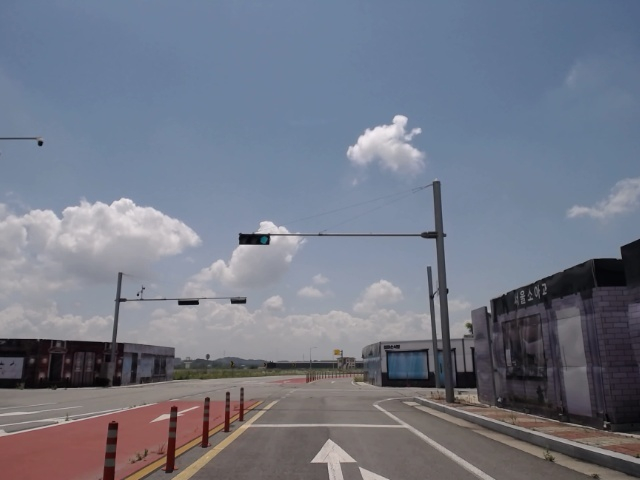green_3: (240, 234, 271, 245)
